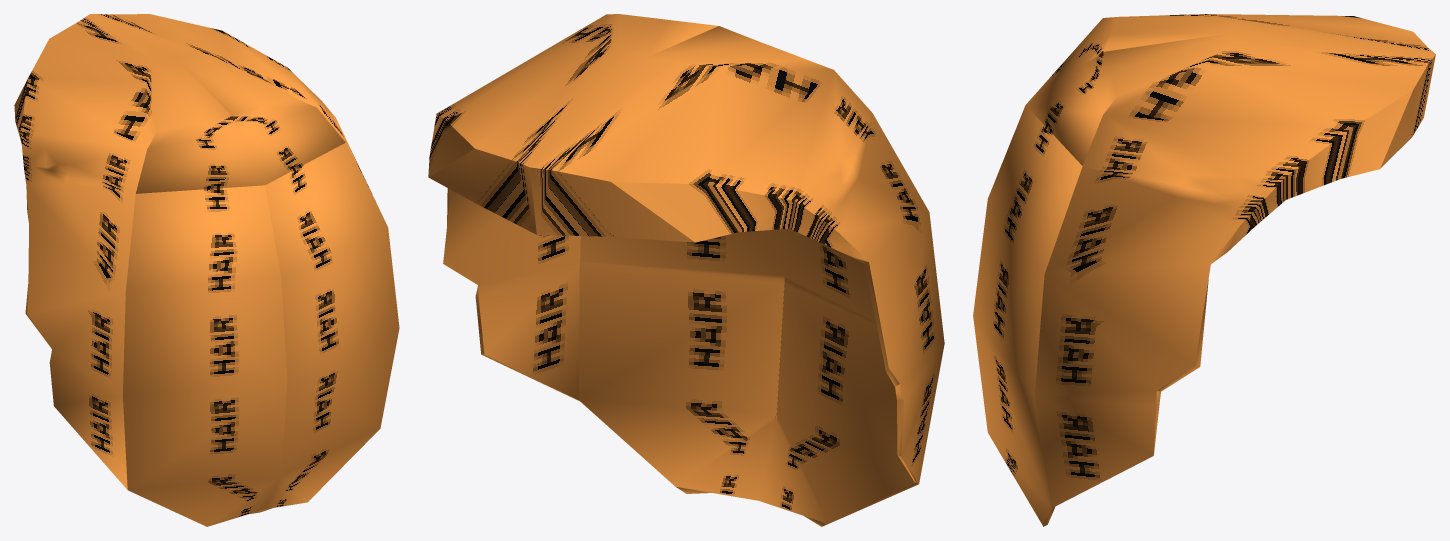
Rendered from 0-B8U3ylS2.glb.
3 views of the same model, side by side, from view 1: azimuth 30°, elevation 25°; view 2: azimuth 150°, elevation 25°; view 3: azimuth 270°, elevation 25° (orthographic). The views are drawn at different scales.
Parts seen in each view (by area): view 1: hair0; view 2: hair0; view 3: hair0.
Boxes of the visible parts, x1=… form: hair0: x1=14, y1=14, x2=399, y2=526; hair0: x1=428, y1=14, x2=944, y2=526; hair0: x1=973, y1=14, x2=1435, y2=526.
Size of the model in its own units: 0.1446 by 0.1666 by 0.1496.
Materials: 1 (1 with a texture image).
